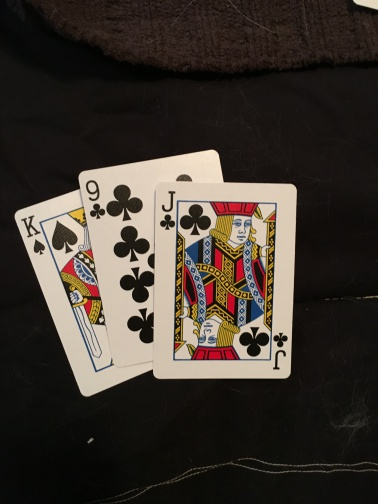jack: (154, 180, 292, 379)
king: (16, 207, 114, 397)
nine: (80, 169, 158, 364)
